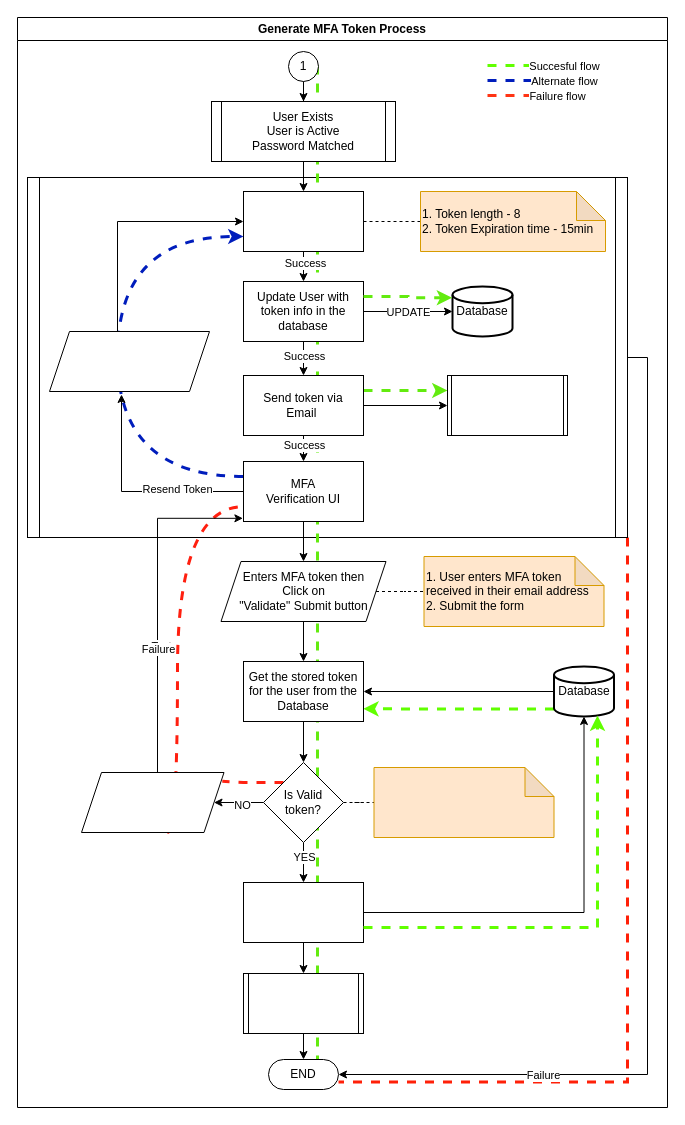
Image size: 685x1125. Some labels were removed from this diagram. Each missing label, with the centre of its shape:
1. Compares stored token 2. Check for token not expired: the point at 463,802
Generate Token: the point at 303,221
Invalid Token error will be shown to the user: the point at 152,802
Invalidate the token for future use: the point at 303,912
Landing page: the point at 303,1003
SMTP Server: the point at 507,405
User clicks "Resend Token" submit button: the point at 129,361
